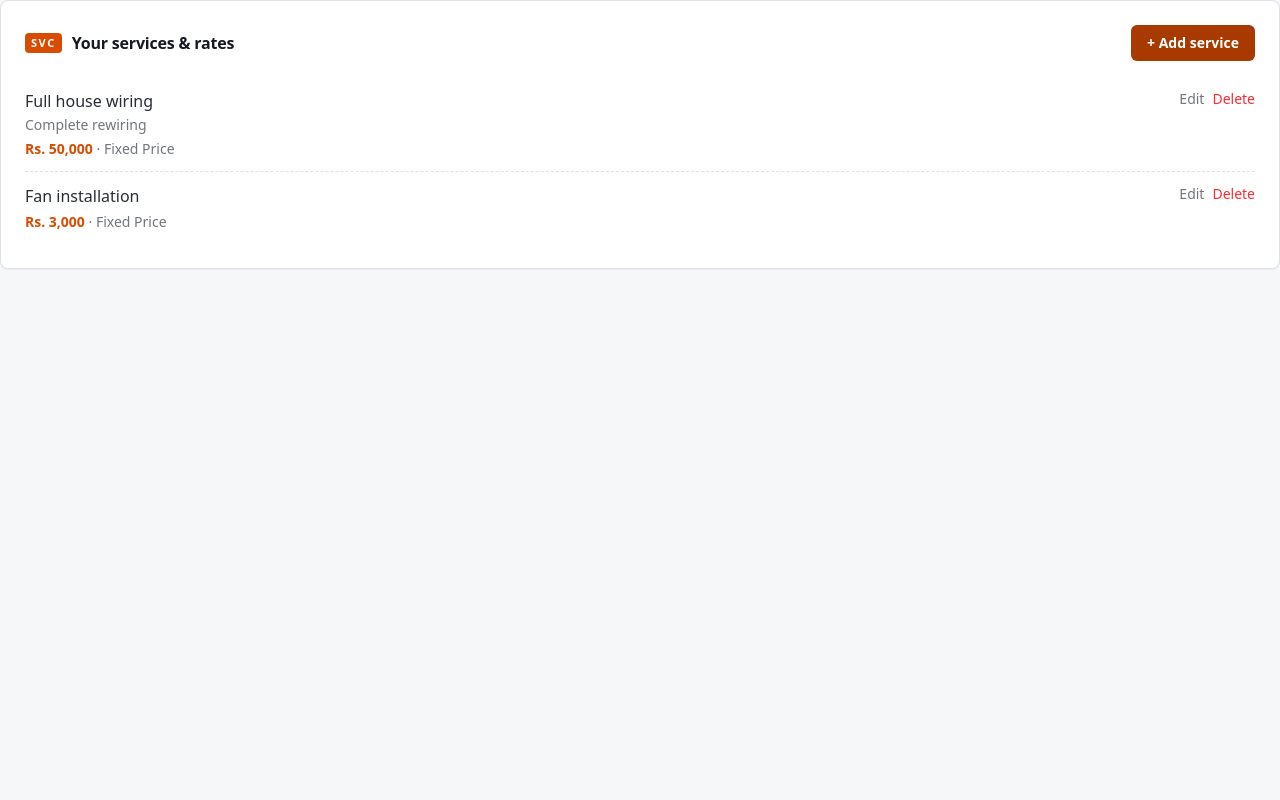
Test: ServicesManager › shows the server error via role=alert when saving fails
Click the button "+ Add service" at [1193, 43], box [1131,25,1255,61]
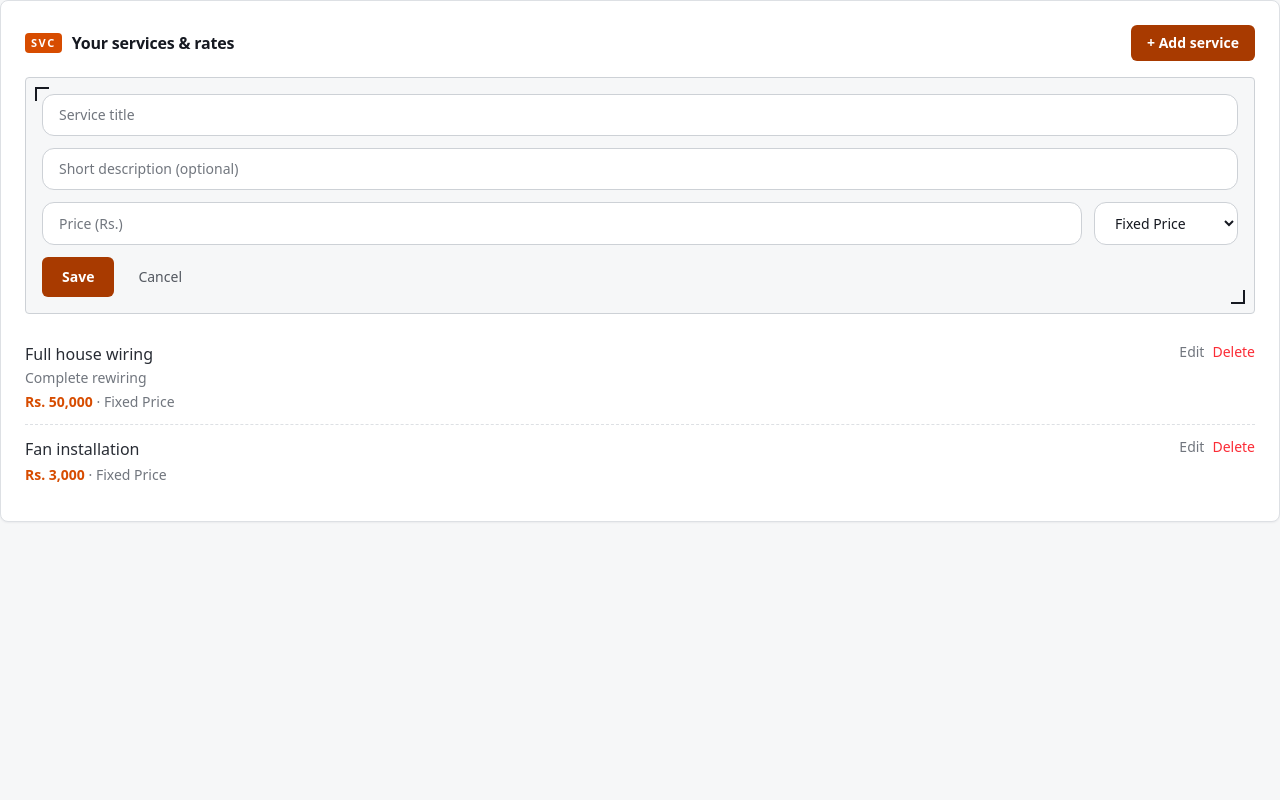
Type "Socket repair" into the field labelled "Service title" at [640, 115], box [42,94,1238,136]
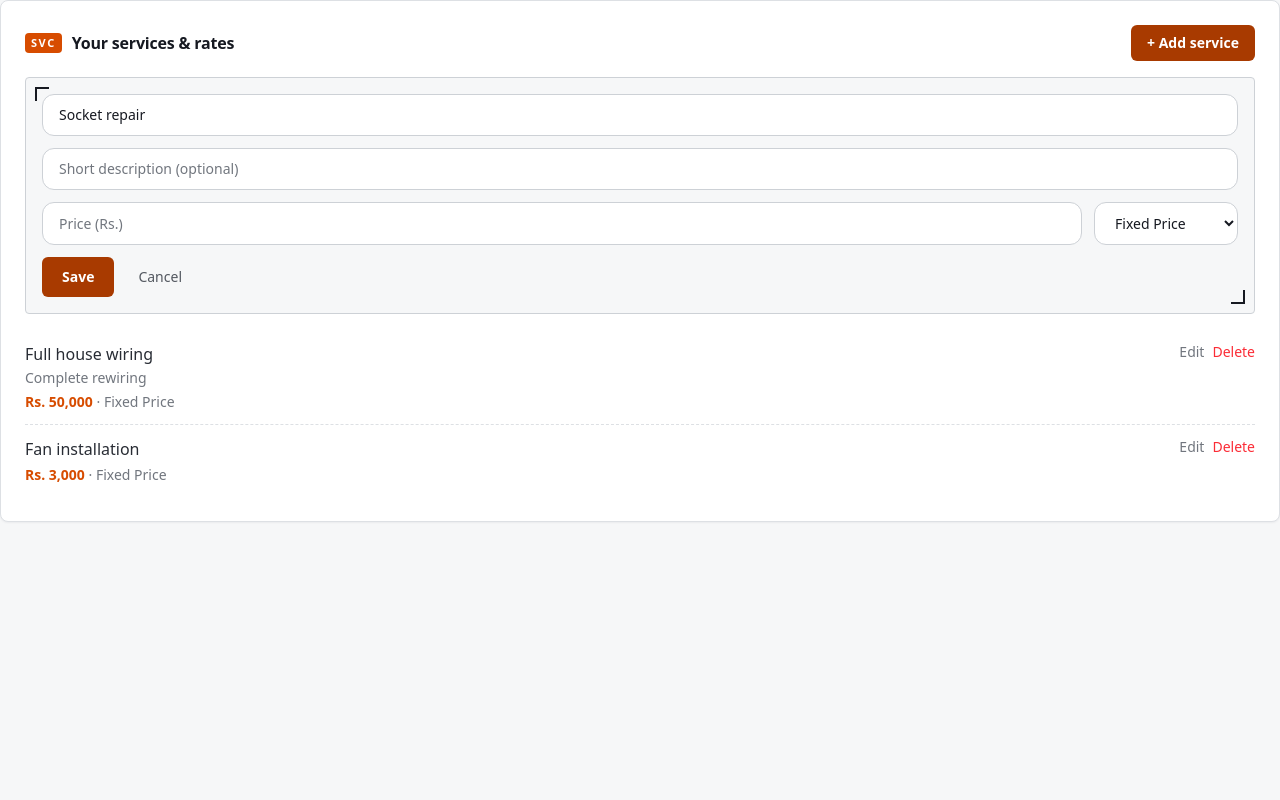
Type "1500" into the number field labelled "Price (Rs.)" at [562, 224], box [42,202,1082,245]
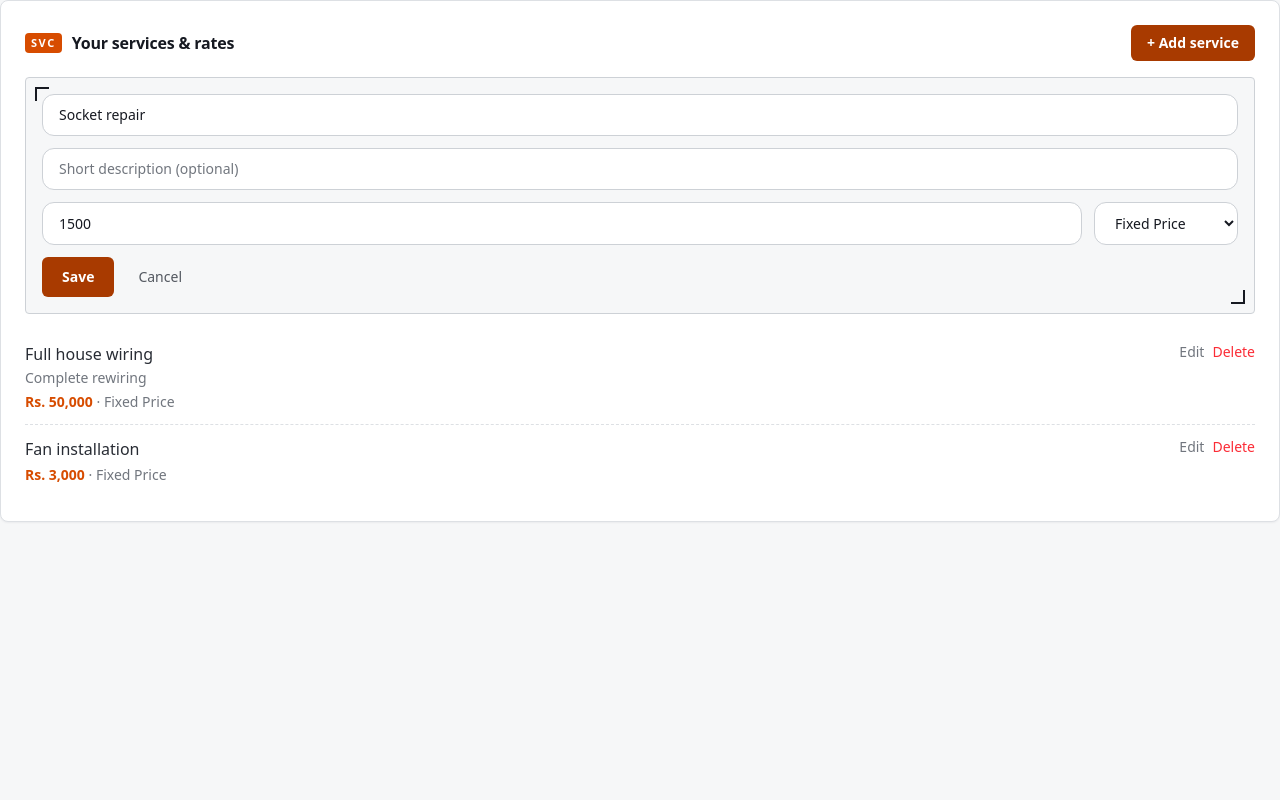
Click the button "Save" at [78, 277], box [42,257,114,297]
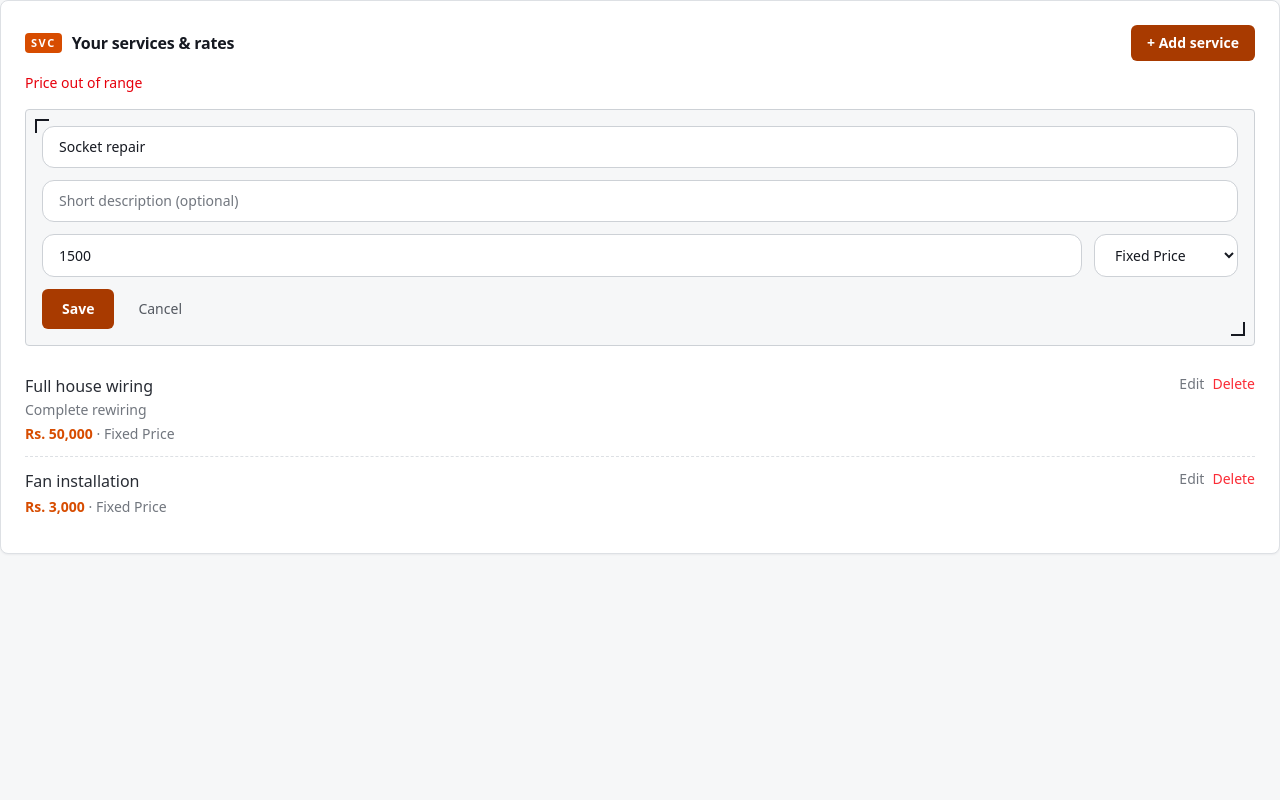
Result: the message reads "Price out of range" at [25,73,142,92]
